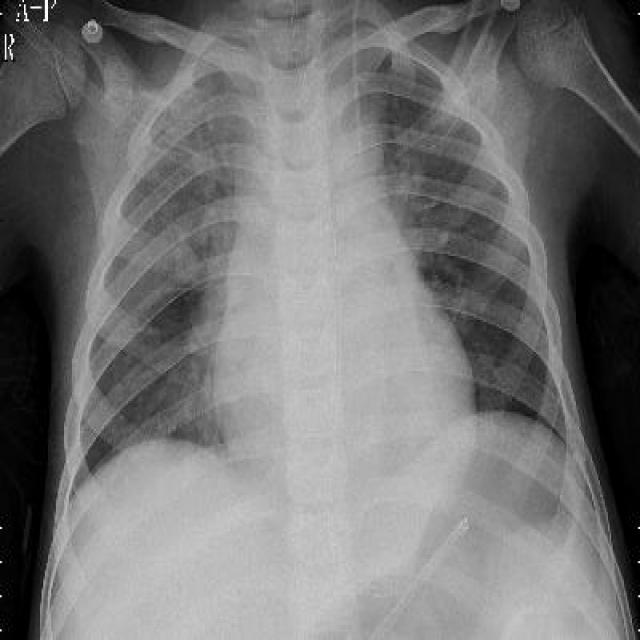bacterial_pneumonia: (3, 4, 640, 640)
